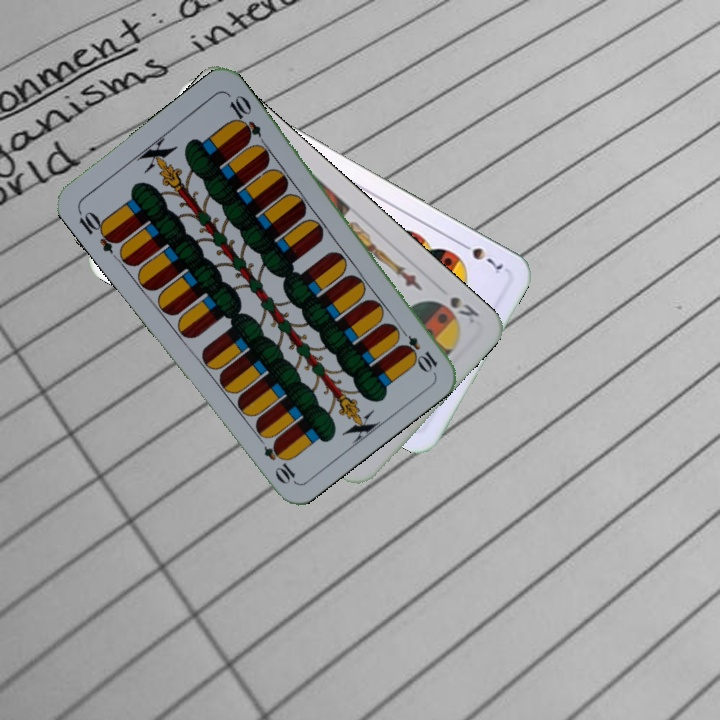E10: (74, 205, 123, 256), (394, 323, 440, 375)
S7: (455, 237, 506, 277)
SK: (446, 292, 482, 327)
